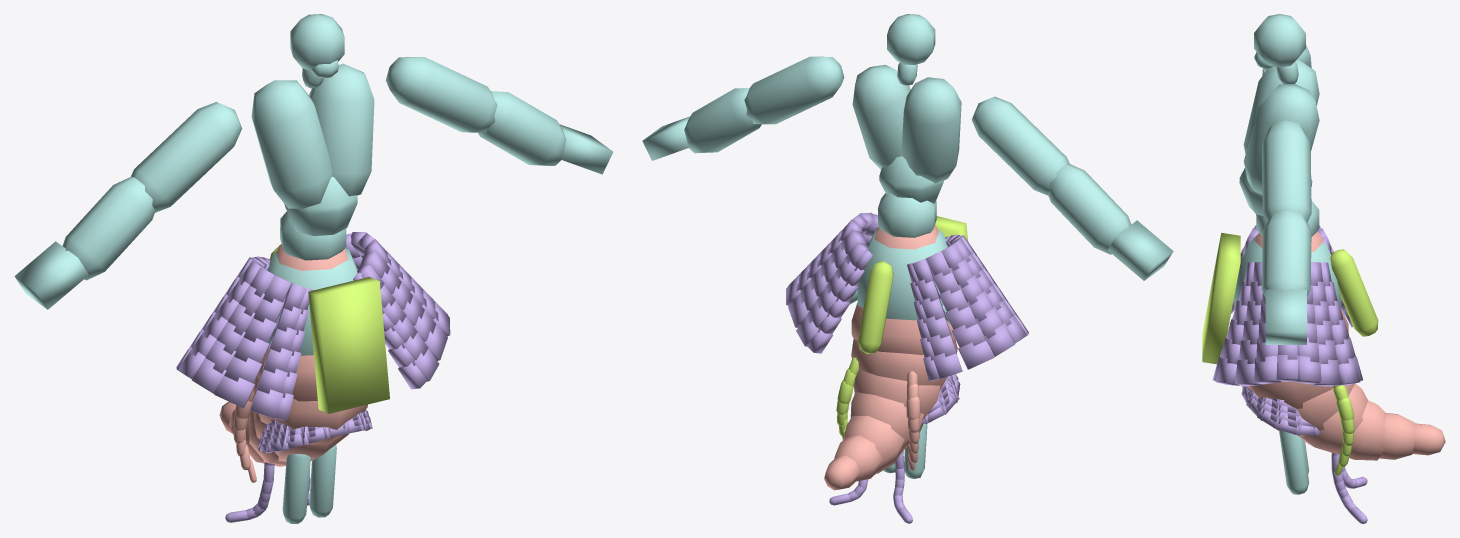
The model's file is Griseo_RigidBodyWorld.fbx.
3 views of the same model, side by side, from view 1: azimuth 30°, elevation 25°; view 2: azimuth 150°, elevation 25°; view 3: azimuth 270°, elevation 25° (orthographic). The views are drawn at different scales.
Parts seen in each view (by area): view 1: 00D_Bone_StuntMan_QunJia_F_01, 001_上半身2_1, 003_右腕, 002_上半身2_2, 006_左腕, 004_右ひじ, 007_左ひじ, 005_右手, 00A_頭_1, 000_上半身, 026_M-下半身, 00C_下半身 (+10 smaller); view 2: 001_上半身2_1, 003_右腕, 006_左腕, 002_上半身2_2, 004_右ひじ, 007_左ひじ, 026_M-下半身, 005_右手, 00E_Bone_StuntMan_QunJia_B_01, 00C_下半身, 00A_頭_1, 00I_スカート_3_1 (+11 smaller); view 3: 006_左腕, 007_左ひじ, 002_上半身2_2, 00D_Bone_StuntMan_QunJia_F_01, 008_左手, 00A_頭_1, 00E_Bone_StuntMan_QunJia_B_01, 00L_スカート_6_1, 001_上半身2_1, 00K_スカート_5_1, 00G_左ひざ, 00M_スカート_7_1 (+27 smaller).
Boxes of the visible parts, x1,y1,x2,y2 form: 00D_Bone_StuntMan_QunJia_F_01: (308,277,389,413); 001_上半身2_1: (251,80,332,208); 003_右腕: (131,102,242,212); 002_上半身2_2: (309,63,374,196); 006_左腕: (385,57,497,132); 004_右ひじ: (62,176,155,280); 007_左ひじ: (477,91,566,165); 005_右手: (14,241,88,309); 00A_頭_1: (290,14,344,70); 000_上半身: (284,176,357,235); 026_M-下半身: (267,248,357,355); 00C_下半身: (280,211,346,260); 001_上半身2_1: (901,77,961,183); 003_右腕: (971,96,1069,195); 006_左腕: (744,56,844,124); 002_上半身2_2: (852,64,910,169); 004_右ひじ: (1047,163,1131,254); 007_左ひじ: (684,88,761,153); 026_M-下半身: (857,227,947,320); 005_右手: (1108,220,1173,280); 00E_Bone_StuntMan_QunJia_B_01: (858,261,893,354); 00C_下半身: (878,192,936,237); 00A_頭_1: (887,14,935,64); 00I_スカート_3_1: (851,339,957,390); 006_左腕: (1262,120,1311,222); 007_左ひじ: (1261,208,1311,297); 002_上半身2_2: (1243,84,1319,194); 00D_Bone_StuntMan_QunJia_F_01: (1202,233,1240,364); 008_左手: (1265,289,1306,344); 00A_頭_1: (1254,14,1305,67); 00E_Bone_StuntMan_QunJia_B_01: (1330,249,1378,336); 00L_スカート_6_1: (1339,400,1386,460); 001_上半身2_1: (1243,59,1319,154); 00K_スカート_5_1: (1303,383,1367,454); 00G_左ひざ: (1279,430,1309,494); 00M_スカート_7_1: (1379,413,1415,459).
Size of the model in its own units: 302 by 120 by 265.
